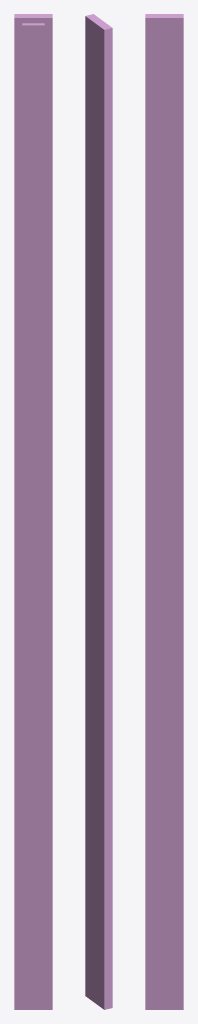
The model's file is Boss2_Wall_Right.fbx.
The picture shows the model from 3 angles, left to right: view 1: azimuth 90°, elevation 25°; view 2: azimuth 210°, elevation 25°; view 3: azimuth 270°, elevation 25°; orthographic projection.
Visible parts, largest first — view 1: Wall_Pillar.001; view 2: Wall_Pillar.001; view 3: Wall_Pillar.001.
Boxes of the visible parts, x1,y1,x2,y2 form: Wall_Pillar.001: (14,14,52,1009); Wall_Pillar.001: (85,14,112,1009); Wall_Pillar.001: (145,14,183,1009).
Bounding box in the file's own units: 72.33 × 5679 × 200.
